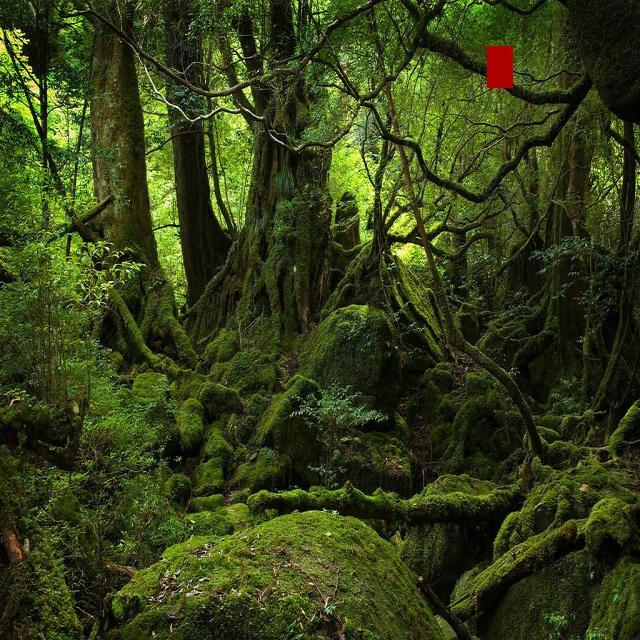RedSquare: (484, 38, 516, 96)
